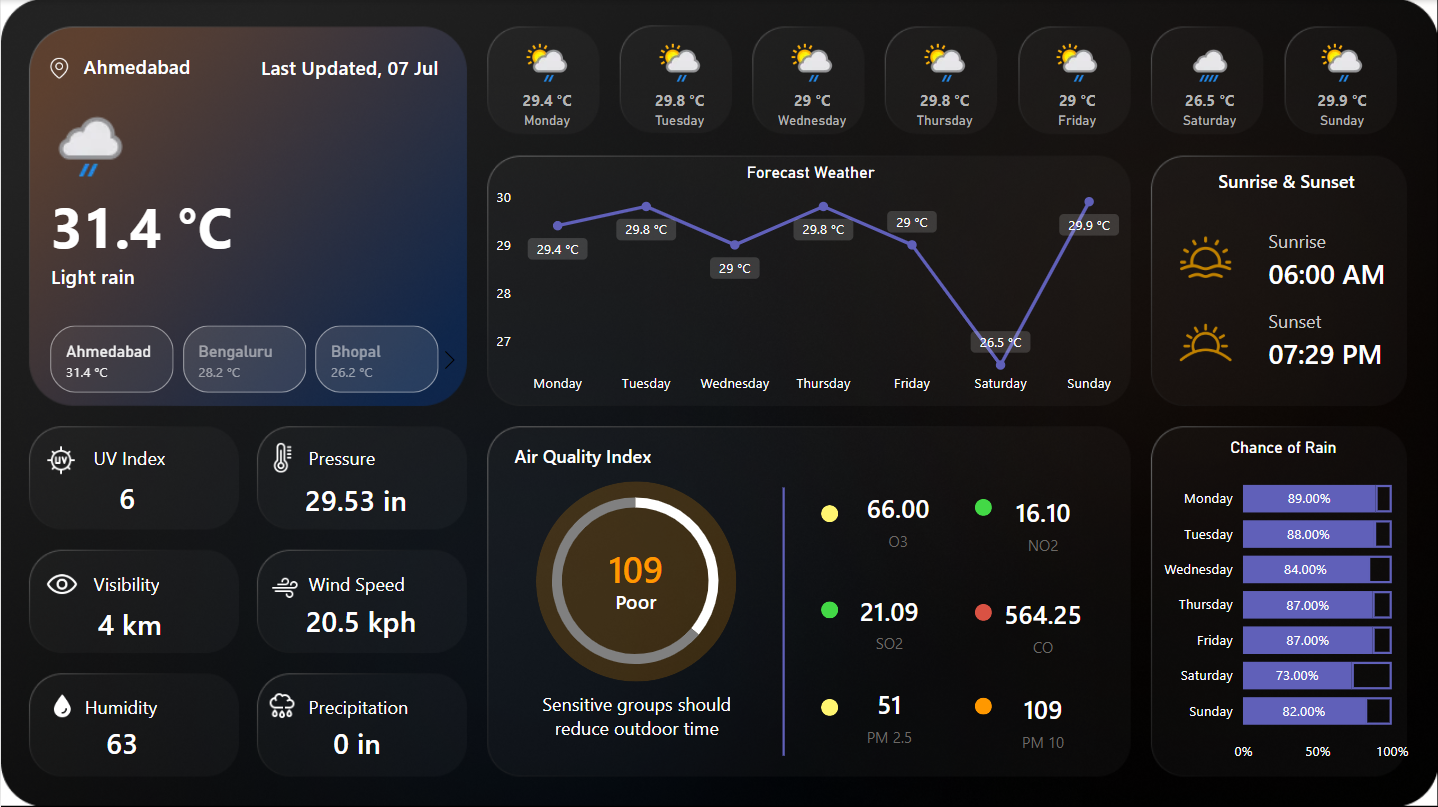

What the dashboard file says about the page in this screenshot:
{"tool":"powerbi","page":{"name":"Page 1","canvas":[1280,720],"ordinal":0},"visuals":[{"type":"advancedSlicerVisual","fields":{"Values":["Location.location.name"]},"box":[19.3,285.1,396.8,70.6],"z":0},{"type":"shape","box":[44.6,166.5,188.2,62.7],"z":1000},{"type":"shape","box":[44.6,229.2,337.8,31.4],"z":2000},{"type":"shape","box":[218.4,43.4,171.3,31.4],"z":3000},{"type":"shape","box":[73.2,43.6,114,31],"z":4000},{"type":"image","box":[38,46.4,28.1,28.1],"z":5000},{"type":"cardVisual","fields":{"Data":["Min(Current.current.condition.icon)"]},"box":[19.3,74.8,111,91.7],"z":6000},{"type":"image","box":[38.6,606.8,31.4,44.6],"z":7000},{"type":"image","box":[236.5,504.3,33.8,38.6],"z":8000},{"type":"image","box":[26.5,499.5,55.5,41],"z":9000},{"type":"image","box":[230.4,389.7,41,36.2],"z":10000},{"type":"image","box":[32.6,392.1,42.2,36.2],"z":11000},{"type":"image","box":[226.8,610.5,47.1,37.4],"z":12000},{"type":"shape","box":[273.9,612.9,115.8,31.4],"z":13000},{"type":"shape","box":[273.9,504.3,115.8,31.4],"z":14000},{"type":"shape","box":[273.9,392.1,85.7,31.4],"z":15000},{"type":"shape","box":[74.8,612.9,85.7,31.4],"z":16000},{"type":"shape","box":[82,504.3,84.5,31.4],"z":17000},{"type":"shape","box":[82,392.1,80.8,31.4],"z":18000},{"type":"card","fields":{"Values":["Sum(Current.current.uv)"]},"box":[82,425.9,60.3,36.2],"z":19000},{"type":"card","fields":{"Values":["Table.Visibility"]},"box":[66.4,539.3,96.5,36.2],"z":20000},{"type":"card","fields":{"Values":["Sum(Current.current.humidity)"]},"box":[78.4,644.2,60.3,36.2],"z":21000},{"type":"card","fields":{"Values":["Table.Pressure"]},"box":[263,428.3,107.4,36.2],"z":22000},{"type":"card","fields":{"Values":["Table.Wind"]},"box":[253.4,529.6,133.9,48.3],"z":23000},{"type":"card","fields":{"Values":["Table.Precipitation"]},"box":[287.1,644.2,60.3,36.2],"z":24000},{"type":"advancedSlicerVisual","fields":{"Values":["Forecast_Day.Day_Name"]},"box":[426.3,14,833.5,117.4],"z":25000},{"type":"lineChart","title":"    Forecast Weather","fields":{"Y":["Sum(Forecast_Day.forecast.forecastday.day.avgtemp_c)"],"Category":["Forecast_Day.Day_Name"]},"box":[436.7,144.8,569.4,214.7],"z":26000},{"type":"shape","box":[1073.7,144.8,141.2,31.4],"z":27000},{"type":"shape","box":[1129.2,220.8,129.1,47.1],"z":28000},{"type":"shape","box":[1129.2,292,129.1,47.1],"z":29000},{"type":"shape","box":[1129.2,197.9,92.9,31.4],"z":30000},{"type":"shape","box":[1129.2,269,85.7,31.4],"z":31000},{"type":"image","box":[1036.3,269,73.6,71.2],"z":32000},{"type":"image","box":[1036.3,201.5,73.6,55.5],"z":33000},{"type":"hundredPercentStackedBarChart","title":"Chance of Rain","fields":{"Y":["Sum(Forecast_Day.forecast.forecastday.day.daily_chance_of_rain)","Current.Left_value_rain"],"Category":["Forecast_Day.Day_Name"]},"box":[1025.6,389.7,233.5,298.3],"z":34000},{"type":"shape","box":[447.6,389.7,141.2,31.4],"z":35000},{"type":"card","fields":{"Values":["Sum(Current.current.air_quality.pm10)"]},"box":[874.5,604.8,106.6,75.8],"z":36000},{"type":"card","fields":{"Values":["Sum(Current.current.air_quality.co)"]},"box":[874.5,520.1,106.6,75.8],"z":37000},{"type":"card","fields":{"Values":["Sum(Current.current.air_quality.no2)"]},"box":[874.5,428.9,106.6,75.8],"z":38000},{"type":"card","fields":{"Values":["Sum(Current.current.air_quality.pm2_5)"]},"box":[738.4,599.7,106.6,75.8],"z":39000},{"type":"card","fields":{"Values":["Sum(Current.current.air_quality.o3)"]},"box":[746.1,425,106.6,75.8],"z":40000},{"type":"card","fields":{"Values":["Sum(Current.current.air_quality.so2)"]},"box":[738.4,516.2,106.6,75.8],"z":41000},{"type":"shape","box":[730.7,449.4,15.4,15.4],"z":42000},{"type":"shape","box":[730.7,535.5,15.4,15.4],"z":43000},{"type":"shape","box":[730.7,622.8,15.4,15.4],"z":44000},{"type":"shape","box":[866.8,538,15.4,15.4],"z":45000},{"type":"shape","box":[866.8,444.3,15.4,15.4],"z":46000},{"type":"shape","box":[476.4,428.9,178.5,178.5],"z":47000},{"type":"shape","box":[866.8,621.5,15.4,15.4],"z":48000},{"type":"shape","box":[683.1,434,27,238.8],"z":49000},{"type":"donutChart","fields":{"Y":["Sum(Current.current.air_quality.pm10)","Table.Left_PM10"]},"box":[464.5,422.3,203.9,195.4],"z":50000},{"type":"card","fields":{"Values":["Sum(Current.current.air_quality.pm10)"]},"box":[512.4,470,106.6,75.8],"z":51000},{"type":"shape","box":[503.4,520.1,124.6,30.8],"z":52000},{"type":"shape","box":[468.7,608.7,195.2,56.5],"z":53000}]}

Visuals, with their boxes in screenshot pixels (x1, y1, x2, y2), scaled from the page's 1280x720 canvas onto the 1438x807 screenshot:
advancedSlicerVisual - Location.location.name: crop(22, 320, 467, 399)
shape: crop(50, 187, 262, 257)
shape: crop(50, 257, 430, 292)
shape: crop(245, 49, 438, 84)
shape: crop(82, 49, 210, 84)
image: crop(43, 52, 74, 84)
cardVisual - Min(Current.current.condition.icon): crop(22, 84, 146, 187)
image: crop(43, 680, 79, 730)
image: crop(266, 565, 304, 609)
image: crop(30, 560, 92, 606)
image: crop(259, 437, 305, 477)
image: crop(37, 439, 84, 480)
image: crop(255, 684, 308, 726)
shape: crop(308, 687, 438, 722)
shape: crop(308, 565, 438, 600)
shape: crop(308, 439, 404, 475)
shape: crop(84, 687, 180, 722)
shape: crop(92, 565, 187, 600)
shape: crop(92, 439, 183, 475)
card - Sum(Current.current.uv): crop(92, 477, 160, 518)
card - Table.Visibility: crop(75, 604, 183, 645)
card - Sum(Current.current.humidity): crop(88, 722, 156, 763)
card - Table.Pressure: crop(295, 480, 416, 521)
card - Table.Wind: crop(285, 594, 435, 648)
card - Table.Precipitation: crop(323, 722, 390, 763)
advancedSlicerVisual - Forecast_Day.Day_Name: crop(479, 16, 1415, 147)
"    Forecast Weather" lineChart: crop(491, 162, 1130, 403)
shape: crop(1206, 162, 1365, 197)
shape: crop(1269, 247, 1414, 300)
shape: crop(1269, 327, 1414, 380)
shape: crop(1269, 222, 1373, 257)
shape: crop(1269, 302, 1365, 337)
image: crop(1164, 302, 1247, 381)
image: crop(1164, 226, 1247, 288)
"Chance of Rain" hundredPercentStackedBarChart: crop(1152, 437, 1415, 771)
shape: crop(503, 437, 661, 472)
card - Sum(Current.current.air_quality.pm10): crop(982, 678, 1102, 763)
card - Sum(Current.current.air_quality.co): crop(982, 583, 1102, 668)
card - Sum(Current.current.air_quality.no2): crop(982, 481, 1102, 566)
card - Sum(Current.current.air_quality.pm2_5): crop(830, 672, 949, 757)
card - Sum(Current.current.air_quality.o3): crop(838, 476, 958, 561)
card - Sum(Current.current.air_quality.so2): crop(830, 579, 949, 664)
shape: crop(821, 504, 838, 521)
shape: crop(821, 600, 838, 617)
shape: crop(821, 698, 838, 715)
shape: crop(974, 603, 991, 620)
shape: crop(974, 498, 991, 515)
shape: crop(535, 481, 736, 681)
shape: crop(974, 697, 991, 714)
shape: crop(767, 486, 798, 754)
donutChart - Sum(Current.current.air_quality.pm10) x Table.Left_PM10: crop(522, 473, 751, 692)
card - Sum(Current.current.air_quality.pm10): crop(576, 527, 695, 612)
shape: crop(566, 583, 706, 617)
shape: crop(527, 682, 746, 746)
